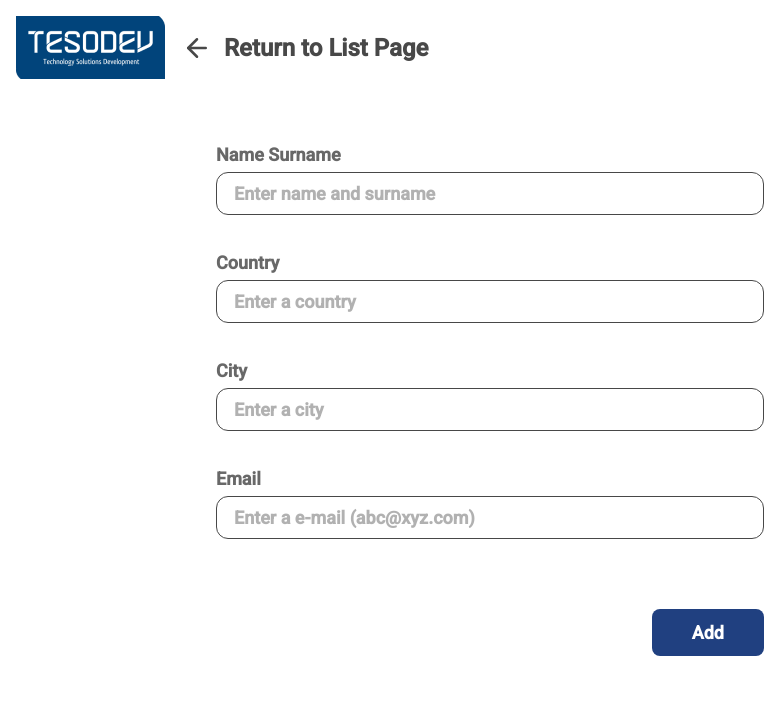
Test: incorrect data check › invalide  email check
Type "test" into the field with test id "email" at (490, 518), box x1=216 y1=496 x2=764 y2=539
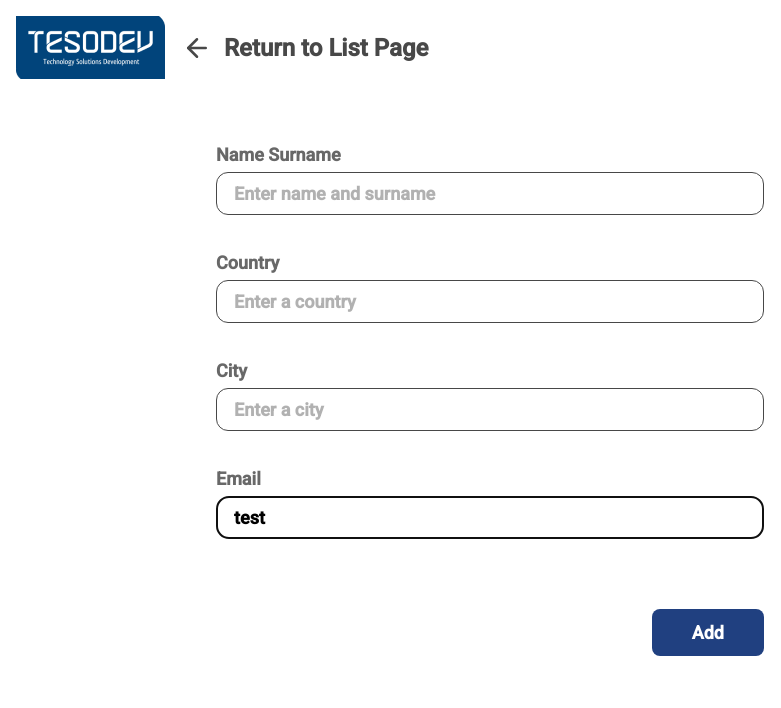
// test girdim email doğru değil
Click the button "Add" at (708, 632), box x1=652 y1=609 x2=764 y2=656
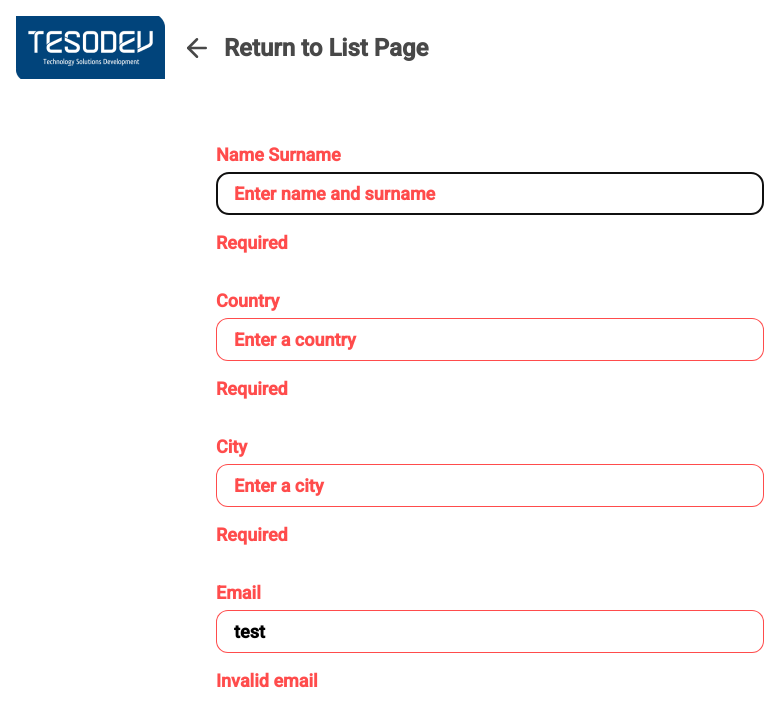
Check: the text with test id "errorMessage" reads "Invalid email", box x1=216 y1=670 x2=318 y2=691
